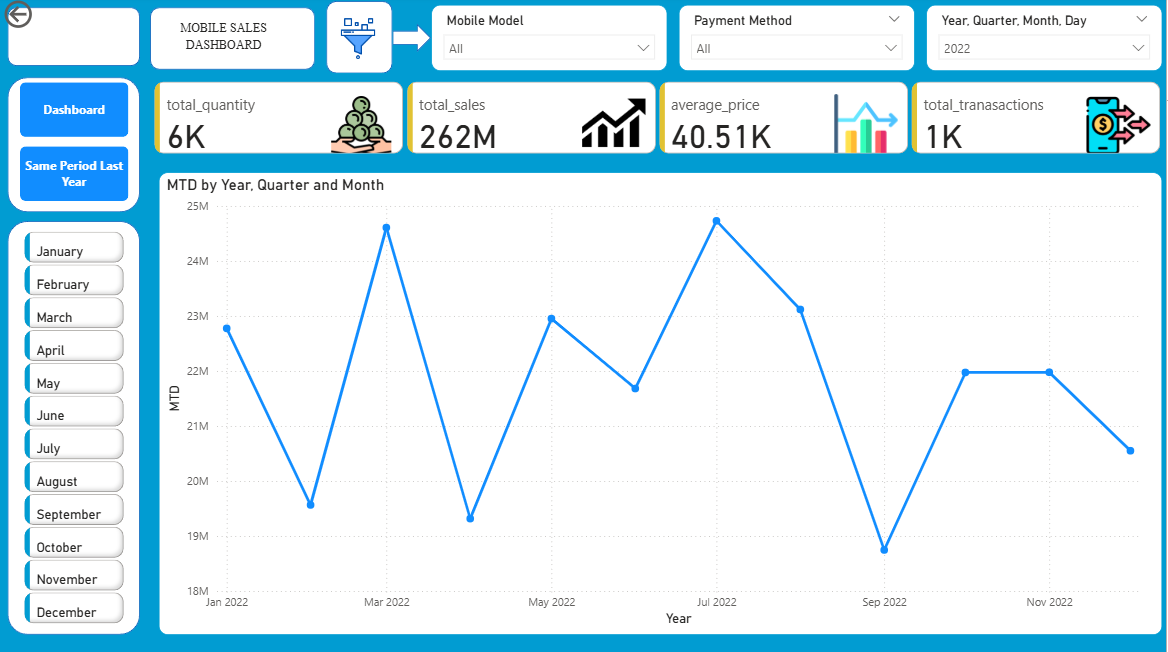

What the dashboard file says about the page in this screenshot:
{"tool":"powerbi","page":{"name":"MTD","canvas":[1280,720],"ordinal":1},"visuals":[{"type":"shape","box":[8.2,12.3,145.5,64.5],"z":0},{"type":"shape","box":[8.2,89.2,145.5,148.2],"z":1000},{"type":"cardVisual","fields":{"Data":["Mobile_sales_data.total_quantity","Mobile_sales_data.total_sales","Mobile_sales_data.average_price","Mobile_sales_data.total_tranasactions"]},"box":[164.7,89.2,1115.6,89.2],"z":2000},{"type":"slicer","fields":{"Values":["Mobile_sales_data.Mobile Model"]},"box":[473.4,9.6,259.3,72.7],"z":3000},{"type":"slicer","fields":{"Values":["Mobile_sales_data.Payment Method"]},"box":[745.1,9.6,259.3,72.7],"z":4000},{"type":"shape","box":[358.1,5.5,72.7,79.6],"z":5000},{"type":"slicer","fields":{"Values":["caleder.Date.Variation.Date Hierarchy.Year","caleder.Date.Variation.Date Hierarchy.Quarter","caleder.Date.Variation.Date Hierarchy.Month","caleder.Date.Variation.Date Hierarchy.Day"]},"box":[1016.8,9.6,259.3,72.7],"z":6000},{"type":"image","box":[365,6.9,56.3,79.6],"z":7000},{"type":"shape","box":[164.7,12.3,181.1,68.6],"z":8000},{"type":"textbox","box":[164.7,20.6,161.9,68.6],"z":9000},{"type":"shape","box":[430.9,30.2,42.5,31.6],"z":10000},{"type":"actionButton","box":[0,0,100,40],"z":11000},{"type":"lineChart","fields":{"Y":["Mobile_sales_data.MTD"],"Category":["caleder.Date.Variation.Date Hierarchy.Year","caleder.Date.Variation.Date Hierarchy.Quarter","caleder.Date.Variation.Date Hierarchy.Month","caleder.Date.Variation.Date Hierarchy.Day"]},"box":[174.3,193.5,1101.9,507.7],"z":12000},{"type":"shape","box":[8.2,247,145.5,454.2],"z":13000},{"type":"advancedSlicerVisual","fields":{"Values":["caleder.Date.Variation.Date Hierarchy.Month"]},"box":[22,253.9,119.4,447.3],"z":14000},{"type":"pageNavigator","box":[22,94.7,119.4,130.4],"z":14001}]}

Visuals, with their boxes in screenshot pixels (x1, y1, x2, y2), scaled from the page's 1280x720 canvas onto the 1168x652 screenshot:
shape: 7/11/140/70
shape: 7/81/140/215
cardVisual - Mobile_sales_data.total_quantity x Mobile_sales_data.total_sales: 150/81/1167/162
slicer - Mobile_sales_data.Mobile Model: 432/9/669/75
slicer - Mobile_sales_data.Payment Method: 680/9/917/75
shape: 327/5/393/77
slicer - caleder.Date.Variation.Date Hierarchy.Year x caleder.Date.Variation.Date Hierarchy.Quarter: 928/9/1164/75
image: 333/6/384/78
shape: 150/11/316/73
textbox: 150/19/298/81
shape: 393/27/432/56
actionButton: 0/0/91/36
lineChart - Mobile_sales_data.MTD x caleder.Date.Variation.Date Hierarchy.Year: 159/175/1165/635
shape: 7/224/140/635
advancedSlicerVisual - caleder.Date.Variation.Date Hierarchy.Month: 20/230/129/635
pageNavigator: 20/86/129/204
